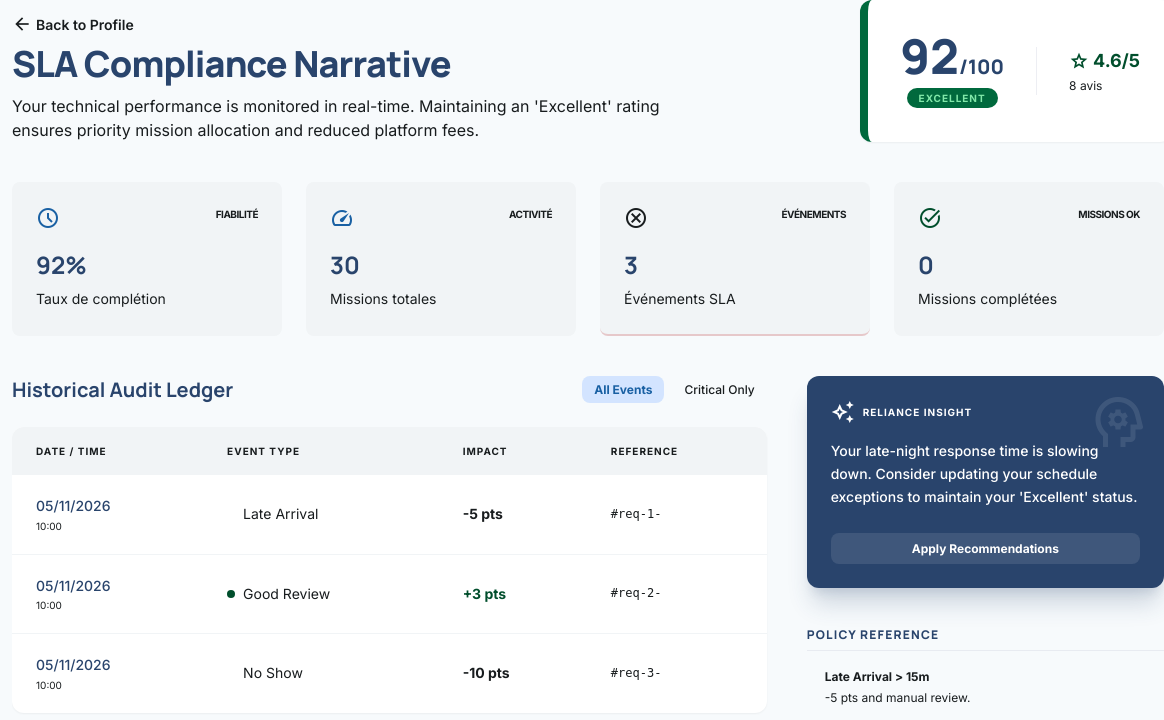
SlaAuditLog › ne garde que les pénalités avec « Critical Only » puis revient à tous
Expected: the text "late arrival" is shown, [243,503,318,526]
Click the button "Critical Only".
click(720, 390)  # box [672,376,767,403]
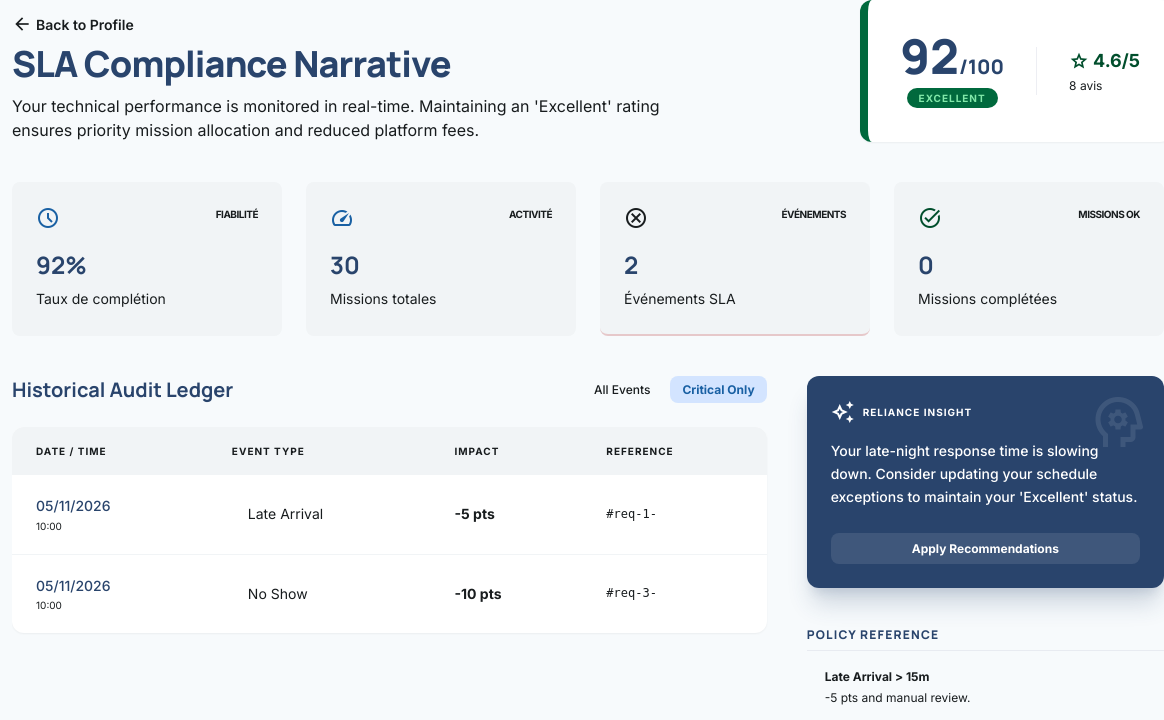
Expected: the text "no show" is shown, [248,583,308,605]
Now the text "good review" is gone
Click the button "All Events".
click(622, 390)  # box [582,376,662,403]
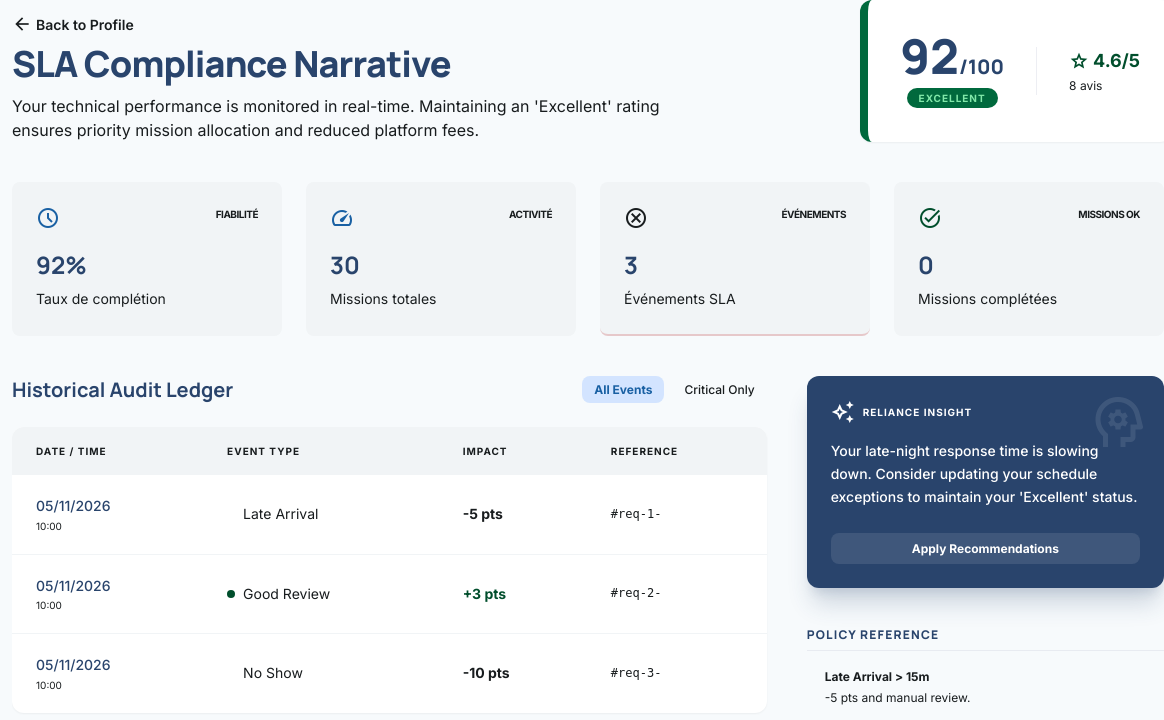
Now the text "good review" is shown, box [243,583,330,605]
